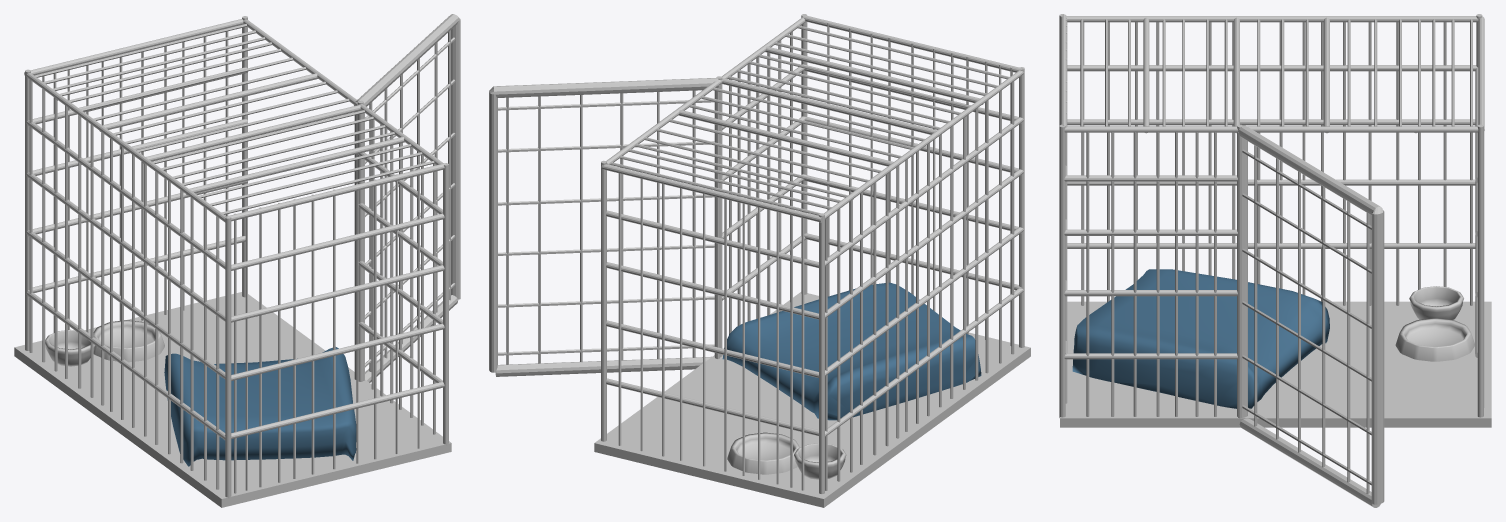
File: cage.fbx
3 renders of one model, left to right at view 1: azimuth 30°, elevation 25°; view 2: azimuth 150°, elevation 25°; view 3: azimuth 270°, elevation 25°, orthographic. The views are drawn at different scales.
Visible parts, largest first — view 1: pCylinder75, pCylinder76, polySurface11; view 2: pCylinder75, pCylinder76, polySurface11; view 3: pCylinder75, pCylinder76, polySurface11.
Boxes of the visible parts, <box> form: pCylinder75: <box>14,16,451,507</box>; pCylinder76: <box>45,320,356,466</box>; polySurface11: <box>354,14,460,382</box>; pCylinder75: <box>594,14,1030,507</box>; pCylinder76: <box>722,282,981,479</box>; polySurface11: <box>489,78,720,376</box>; pCylinder75: <box>1059,14,1491,427</box>; pCylinder76: <box>1072,269,1474,408</box>; polySurface11: <box>1238,125,1384,507</box>.
Size of the model in its own units: 247 by 176 by 228.
